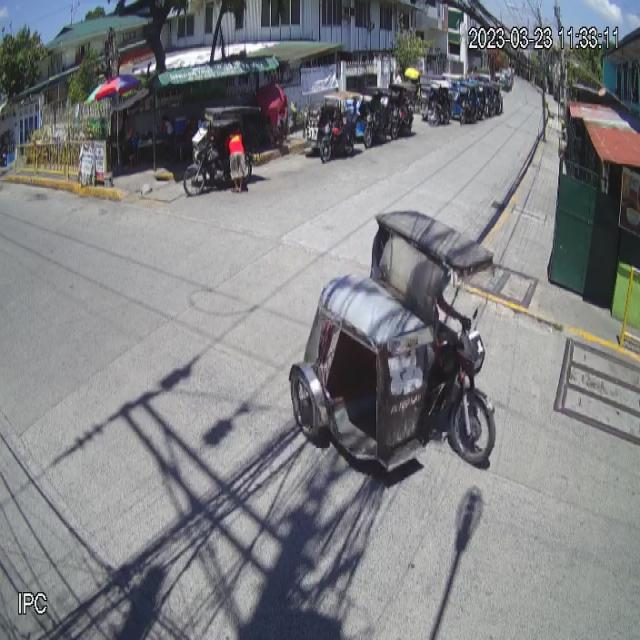Tricycle: (288, 208, 496, 478)
